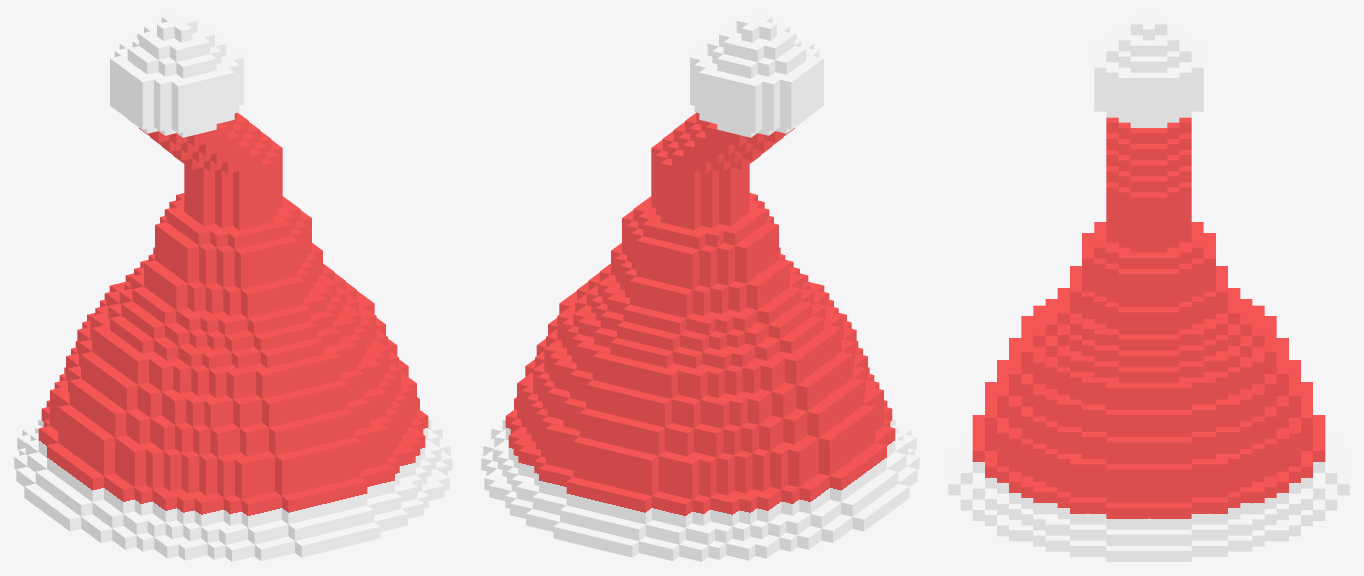
File: 圣诞帽子.gltf
3 views of the same model, side by side, from view 1: azimuth 30°, elevation 25°; view 2: azimuth 150°, elevation 25°; view 3: azimuth 270°, elevation 25° (orthographic). The views are drawn at different scales.
Visible parts, largest first — view 1: Object; view 2: Object; view 3: Object.
Part boxes in pixels (<box>): Object: <box>14,14,452,561</box>; Object: <box>481,14,919,561</box>; Object: <box>948,14,1349,561</box>.
Bounding box in the file's own units: 33 × 39 × 33.
Materials: 1 (1 with a texture image).
